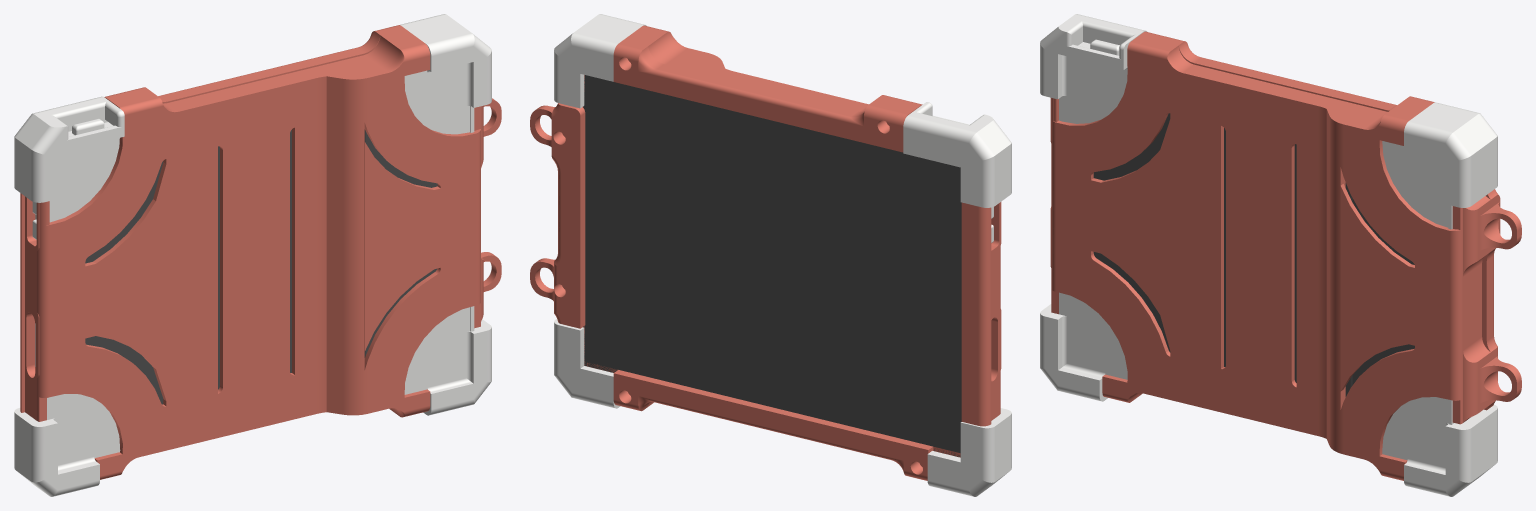
The model's file is Case Protector.glb.
3 renders of one model, left to right at view 1: azimuth 30°, elevation 25°; view 2: azimuth 150°, elevation 25°; view 3: azimuth 330°, elevation 25°, orthographic.
Visible parts, largest first — view 1: CASE HP V2; view 2: CASE HP V2; view 3: CASE HP V2.
Part boxes in pixels (x1,y1,x2,y2): CASE HP V2: [14, 14, 501, 496]; CASE HP V2: [530, 14, 1011, 496]; CASE HP V2: [1040, 14, 1521, 496].
Size of the model in its own units: 28.3 by 21 by 3.7.
